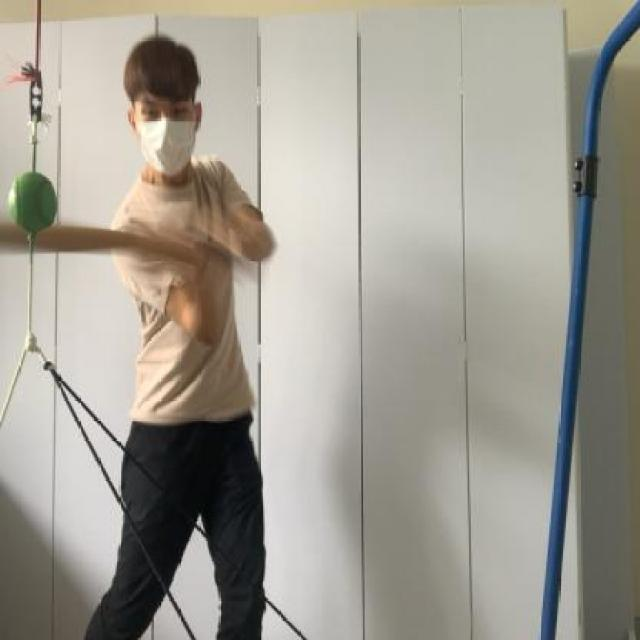baseball: (7, 166, 56, 246)
